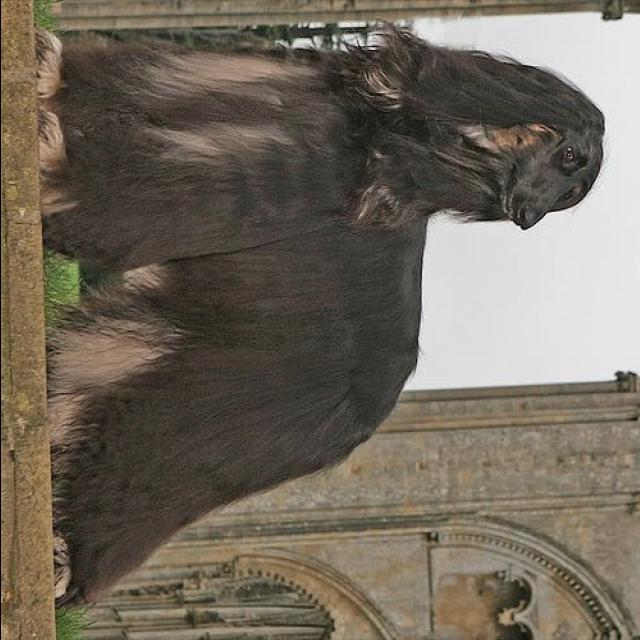afghan_hound: (32, 16, 610, 616)
